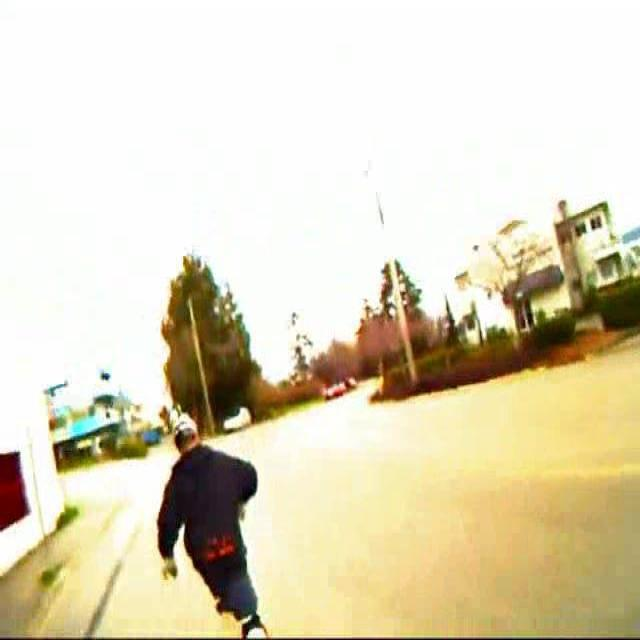other: (226, 408, 399, 468), (63, 451, 150, 506)
